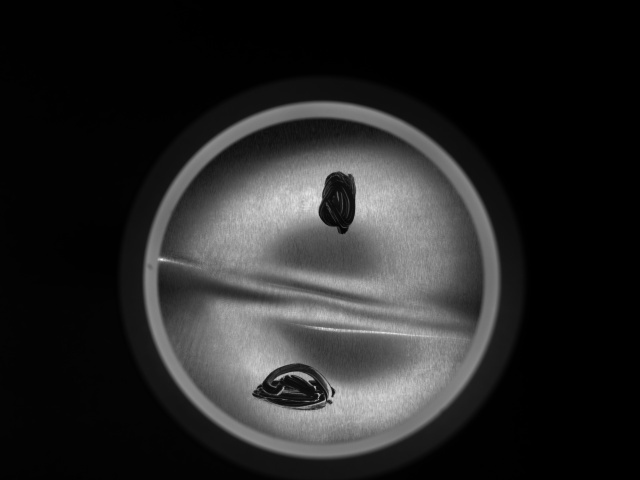zang_wu: (250, 361, 339, 414), (315, 169, 358, 235)
zhe_zhou: (209, 140, 431, 417)
